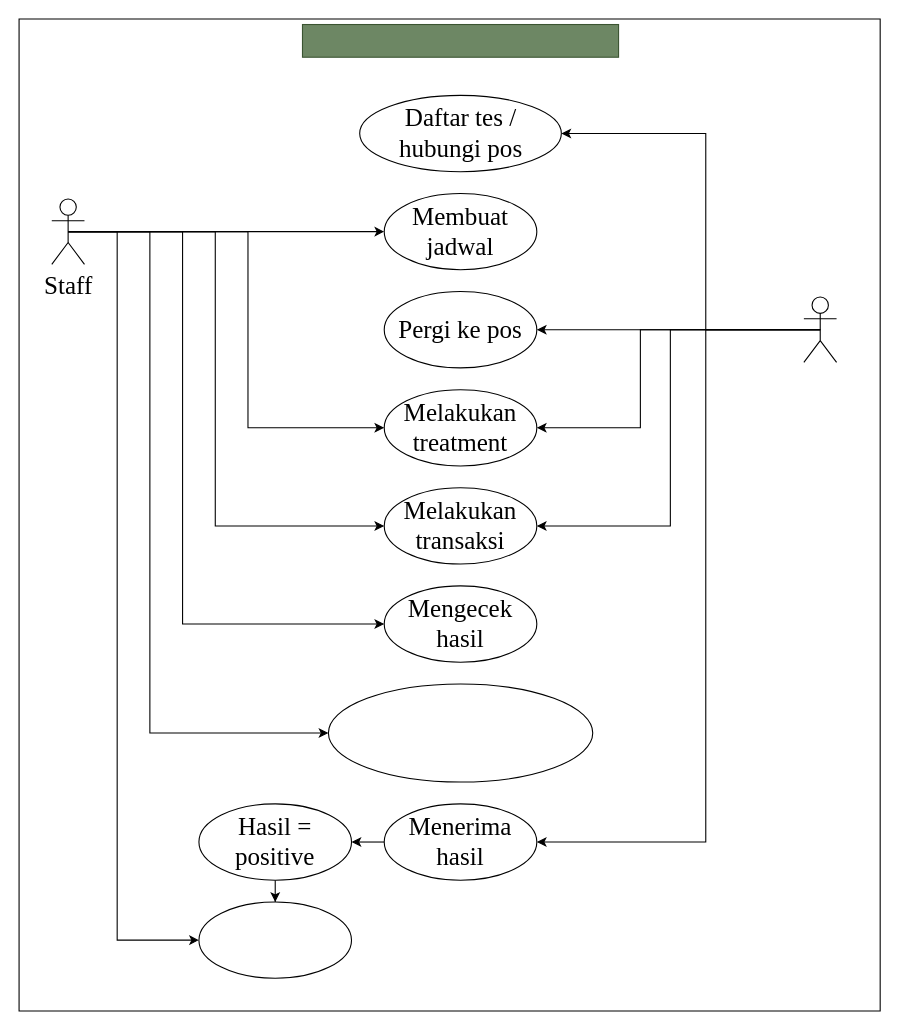
This 899x1030 diagram has some shape labels left out. Here are the shapes that lost their labels. From the top down, the centre of each, then its label:
pixel 460 40: Medical Check-Up Use Case
pixel 820 329: Patient
pixel 460 732: Mengumumkan hasil / hubungi patient
pixel 275 939: Melakukan Tracing
